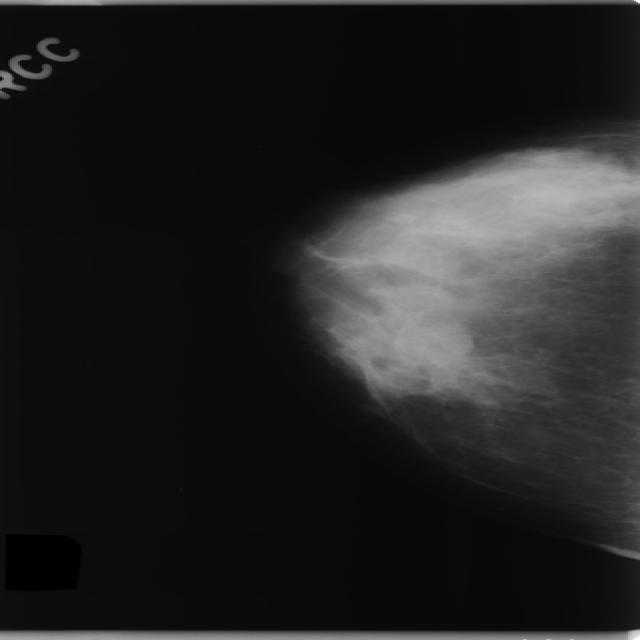tumour: (390, 316, 469, 368)
